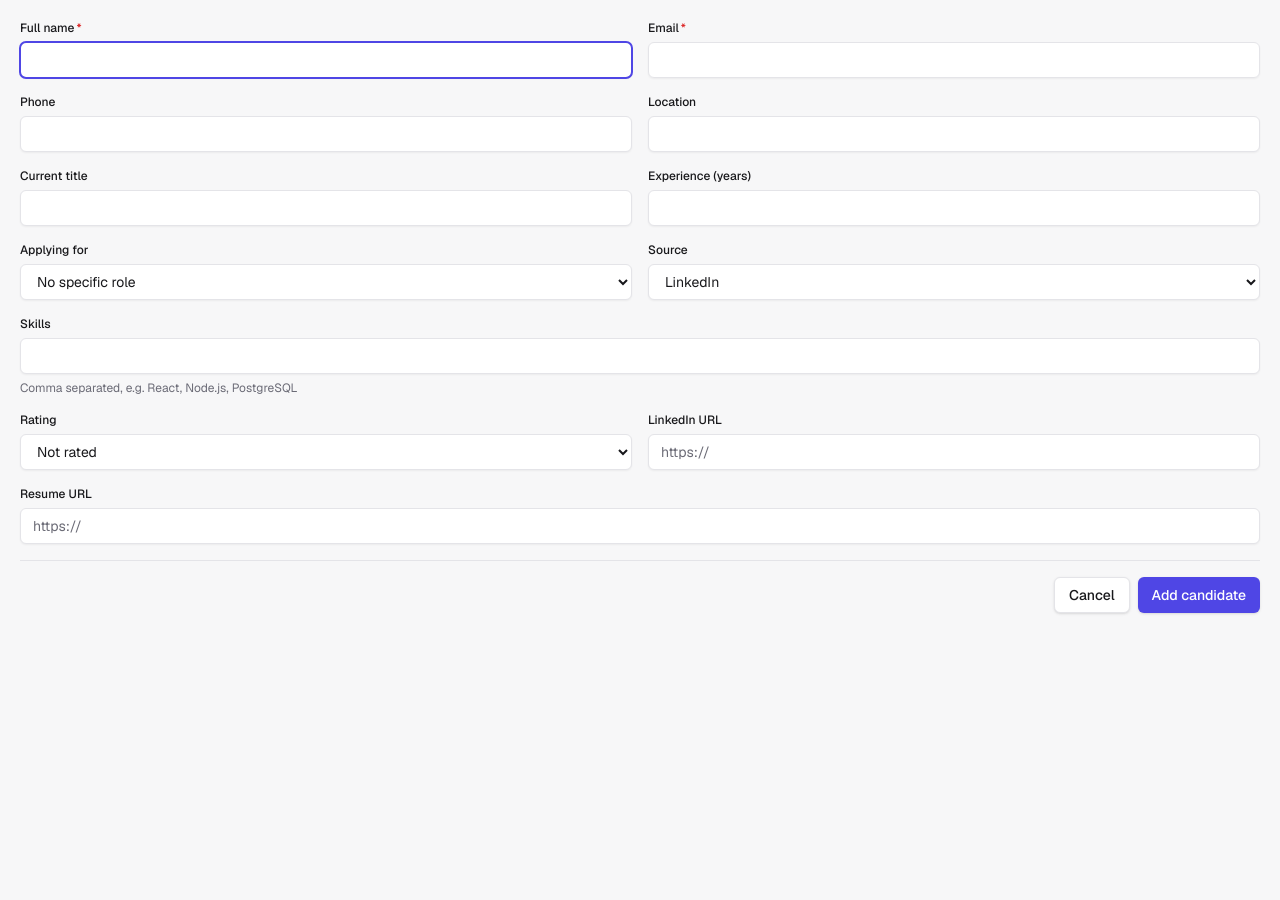
CandidateForm › shows a server conflict (duplicate email) on the email field
Type "Asha Rao" into the field labelled "Full name*". click: (326,60)
box: x1=20 y1=42 x2=632 y2=78
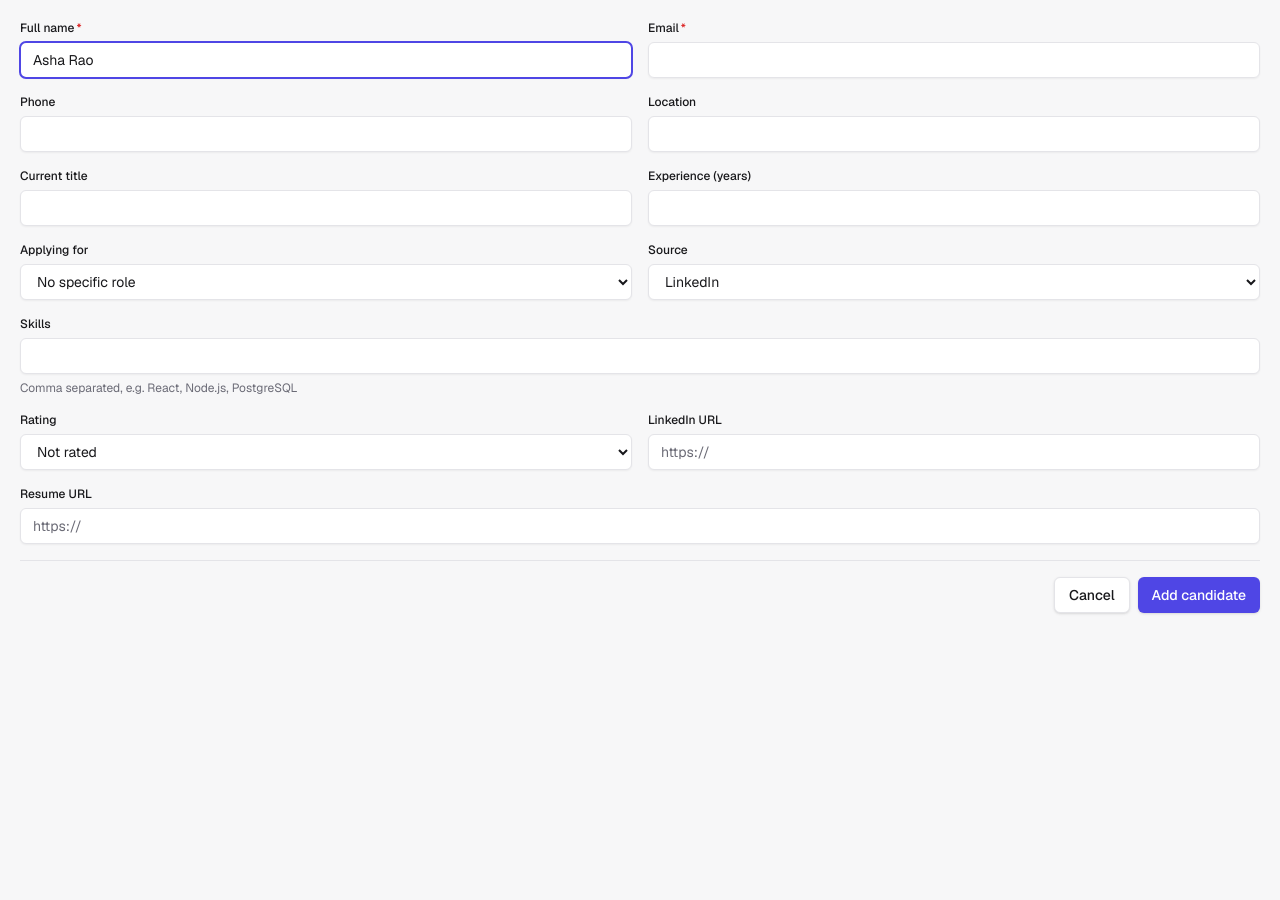
Type "asha@example.com" into the field labelled "Email*". click: (954,60)
box: x1=648 y1=42 x2=1260 y2=78
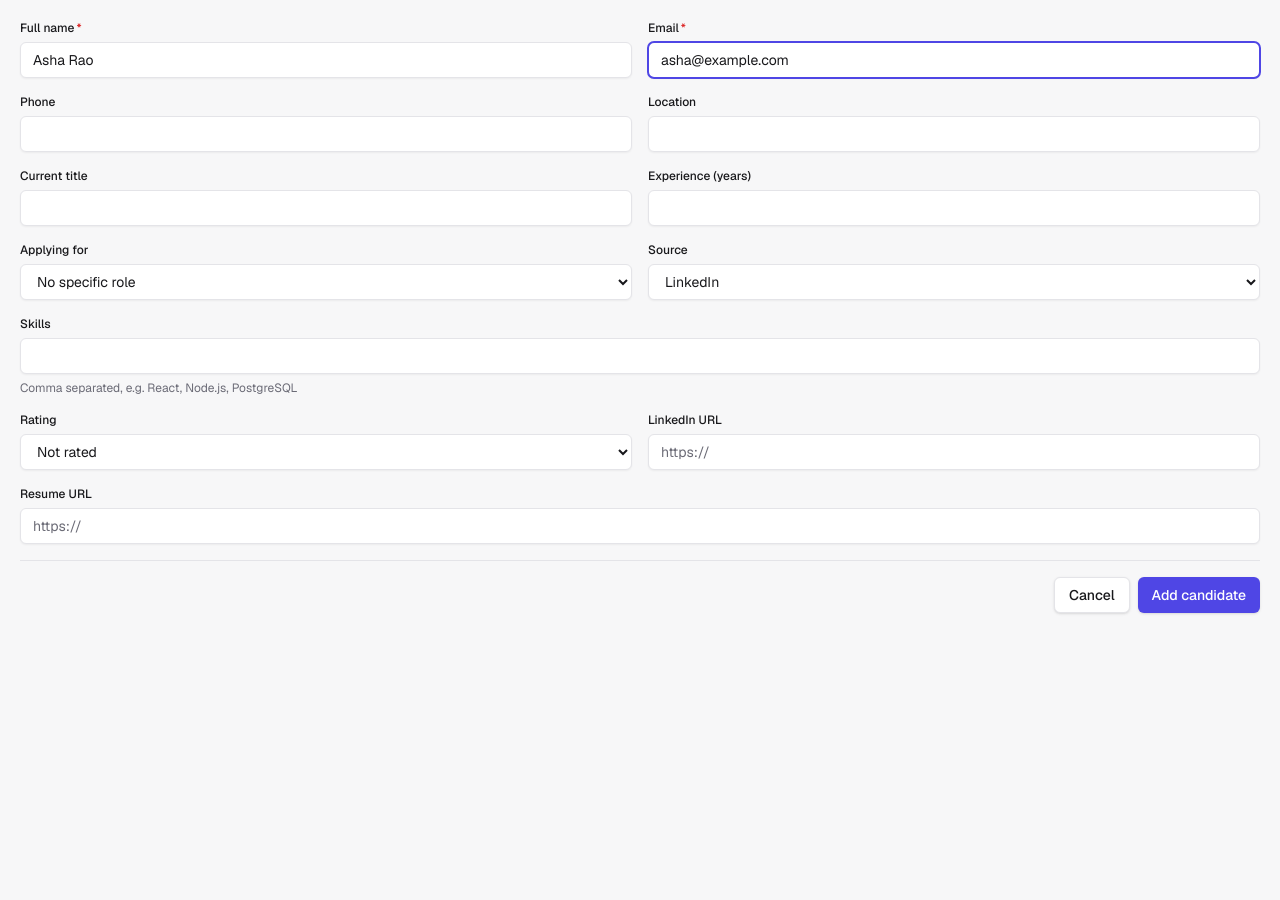
Click the button "Add candidate". click: (1199,595)
box: x1=1138 y1=577 x2=1260 y2=613
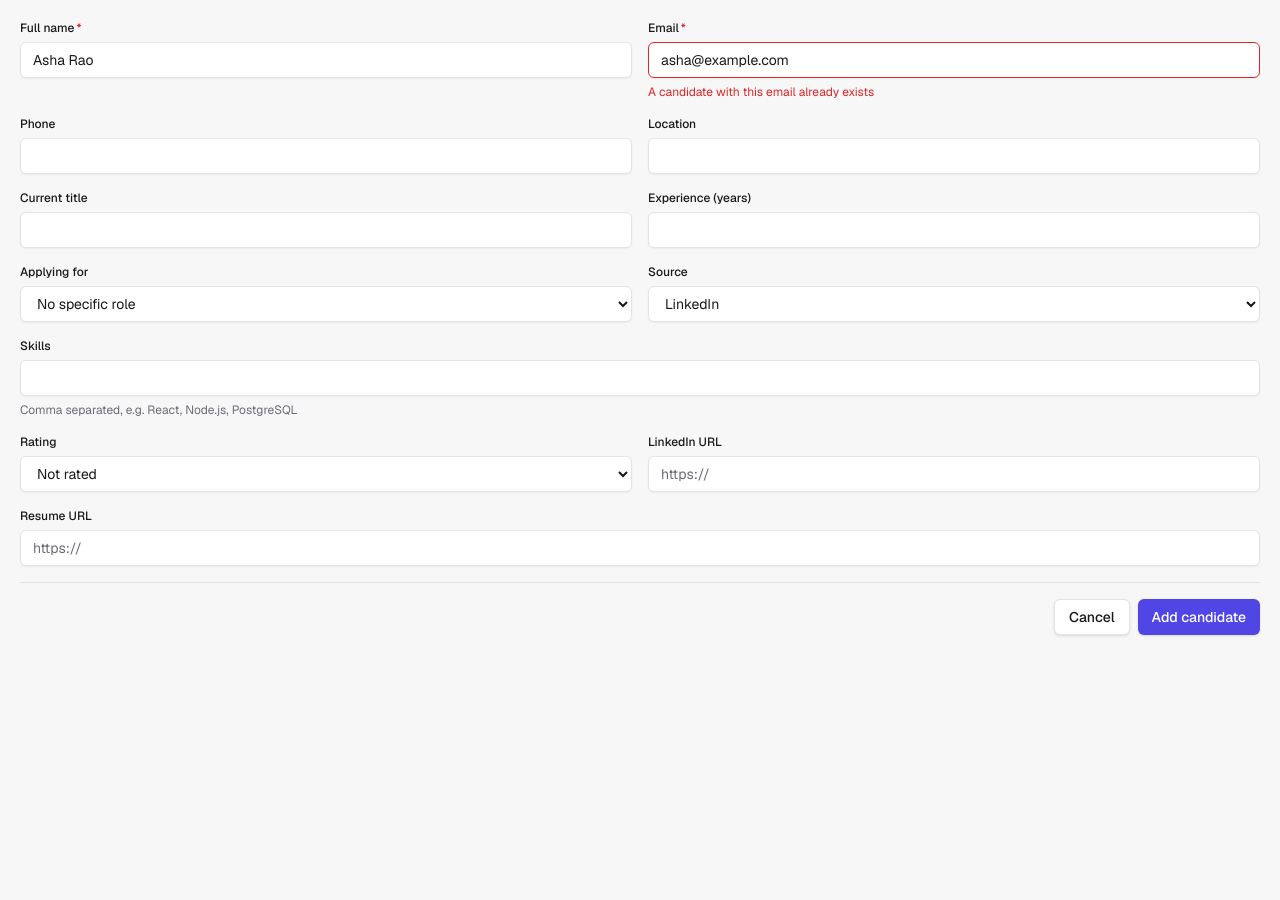
Expected: the text "A candidate with this email already exists" is shown, x1=648 y1=84 x2=874 y2=100
